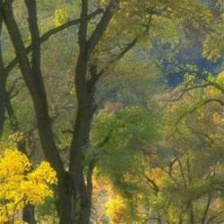neutral: (4, 1, 223, 222)
